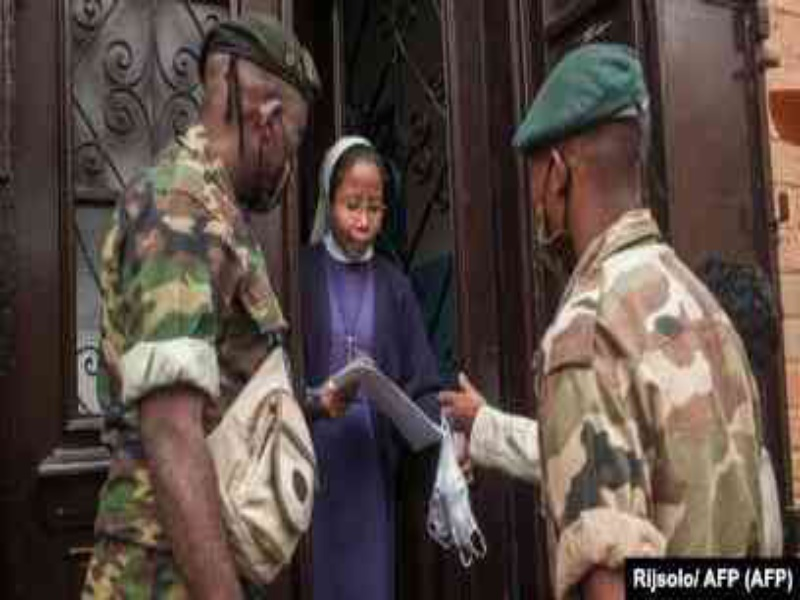TsisyArotava: (308, 129, 399, 269)
